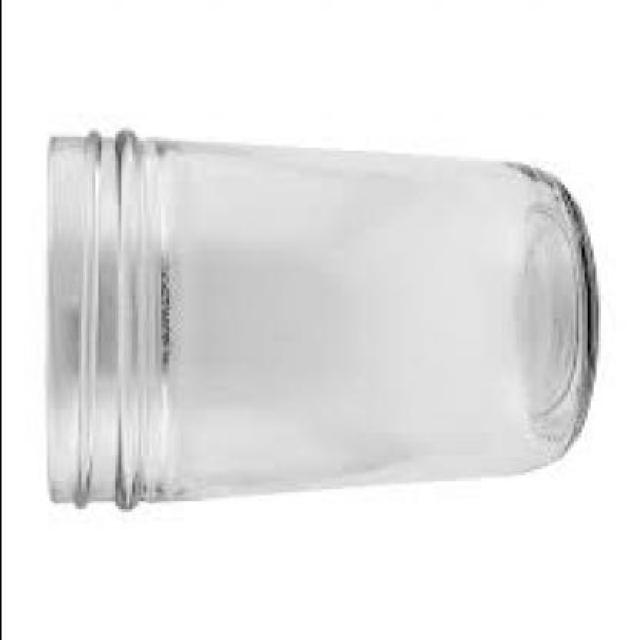GLASS: (40, 128, 594, 509)
